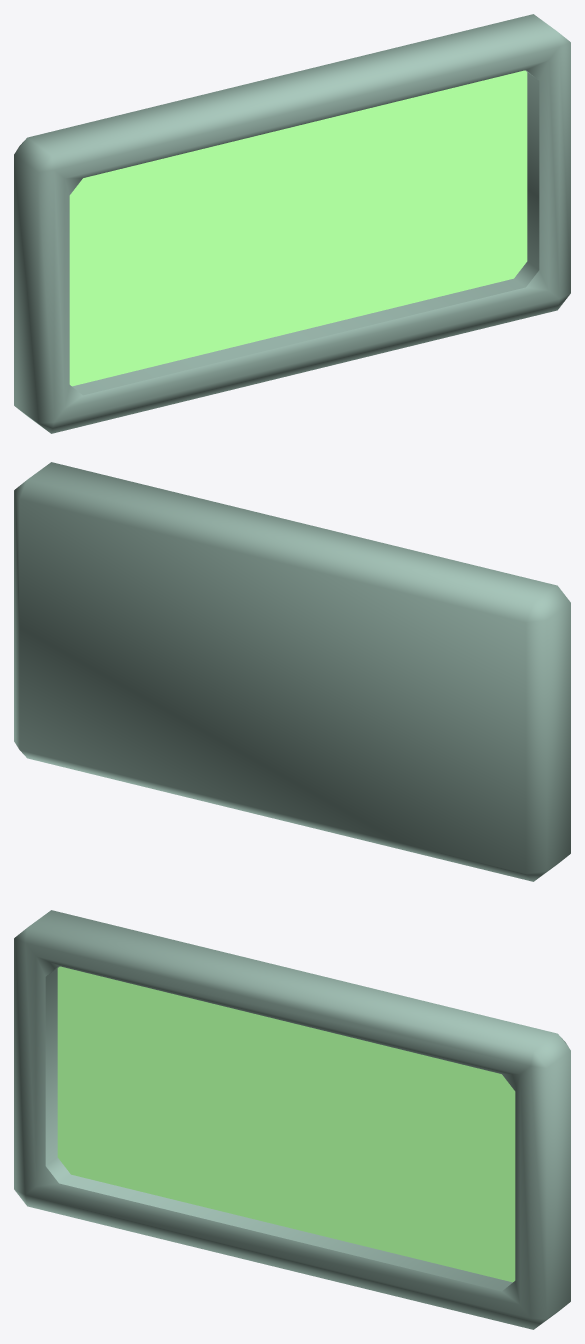
File: Tech2.fbx
3 views of the same model, one above another, from view 1: azimuth 30°, elevation 25°; view 2: azimuth 150°, elevation 25°; view 3: azimuth 330°, elevation 25° (orthographic).
Parts seen in each view (by area): view 1: Tech2; view 2: Tech2; view 3: Tech2.
Part boxes in pixels (bbox=[...]): Tech2: bbox=[14, 14, 570, 433]; Tech2: bbox=[14, 462, 570, 881]; Tech2: bbox=[14, 910, 570, 1329].
Size of the model in its own units: 400 by 200 by 44.38.
